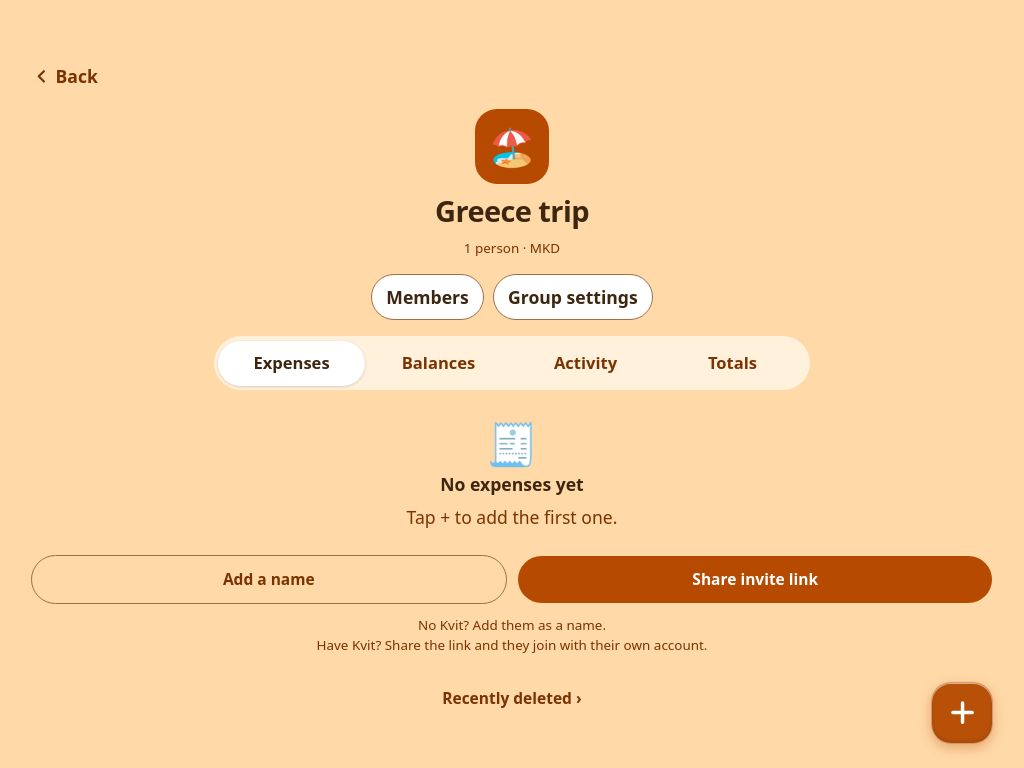
Test case: GroupScreen › adding a name › closes the sheet and shows the new head count after the name is added
The image size is (1024, 768).
Click the button "Add a name" at (269, 580), box [31, 555, 507, 604]
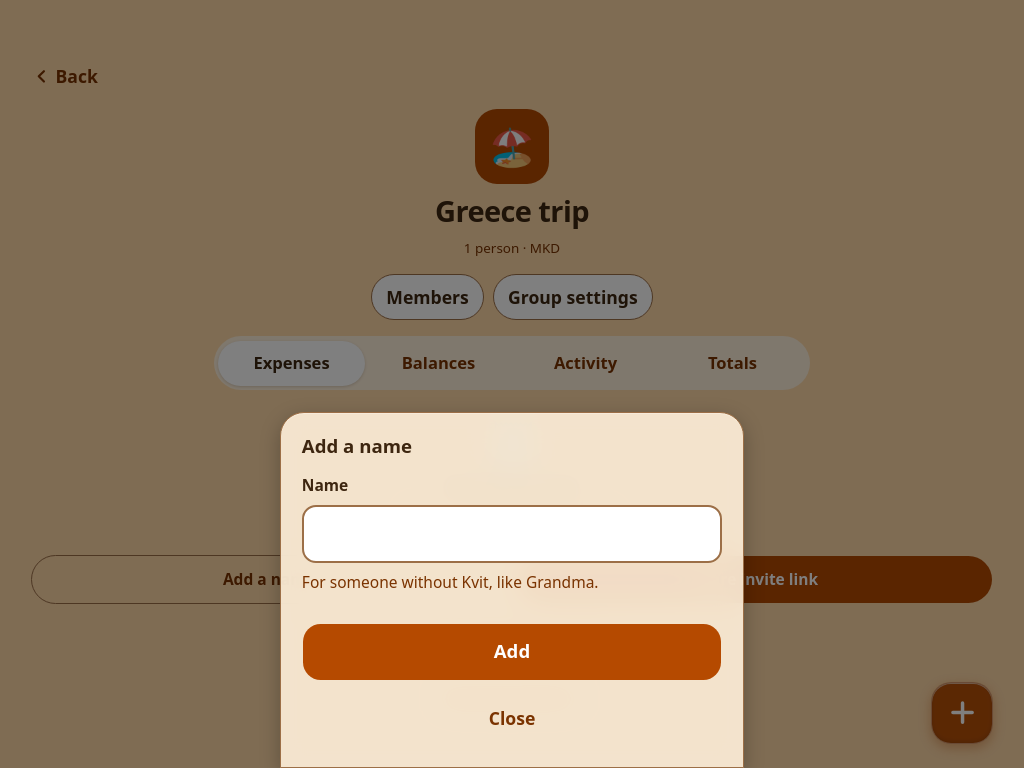
Expected: the dialog "Add a name" is shown, [280, 412, 744, 767]
Type "Grandma" into the field labelled "Name" at (512, 534), box [302, 505, 722, 563]
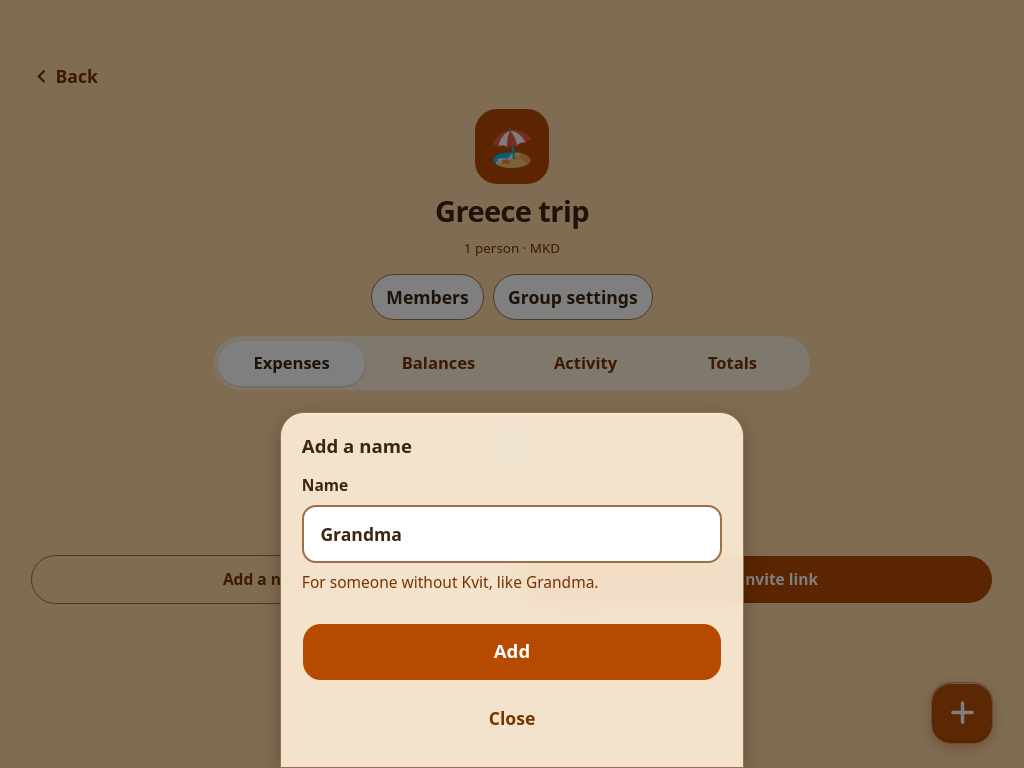
Click the button "Add" at (512, 652), box [302, 623, 722, 681]
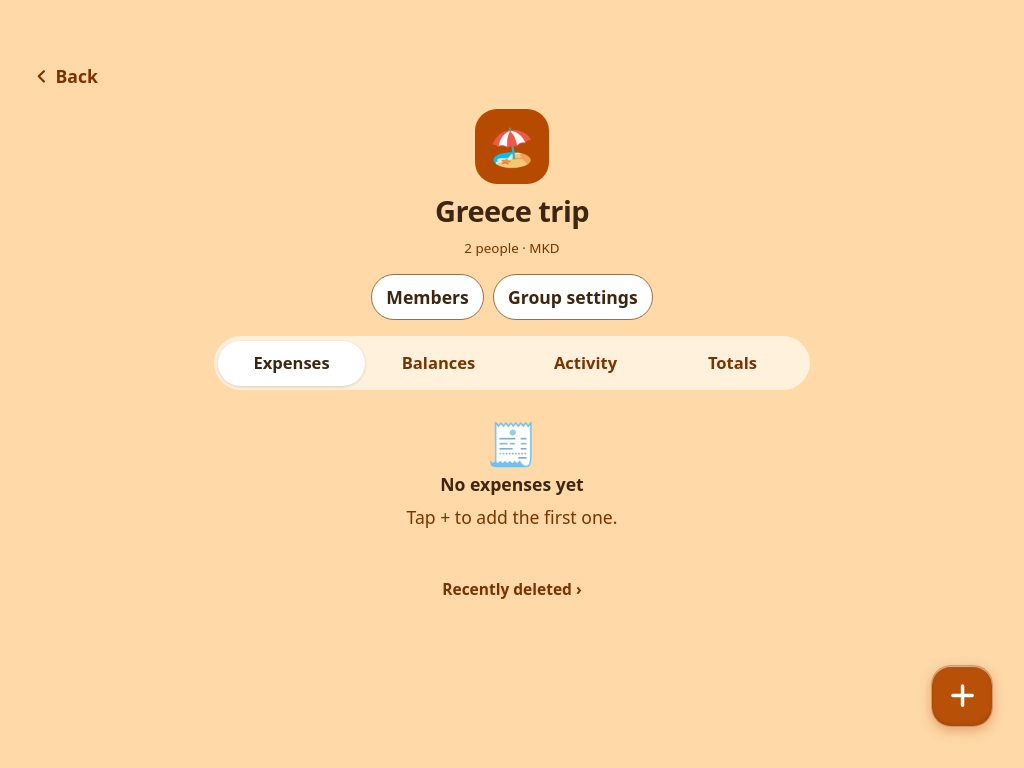
Expected: the dialog is gone
Expected: the text "2 people · MKD" is shown, [464, 238, 560, 258]
